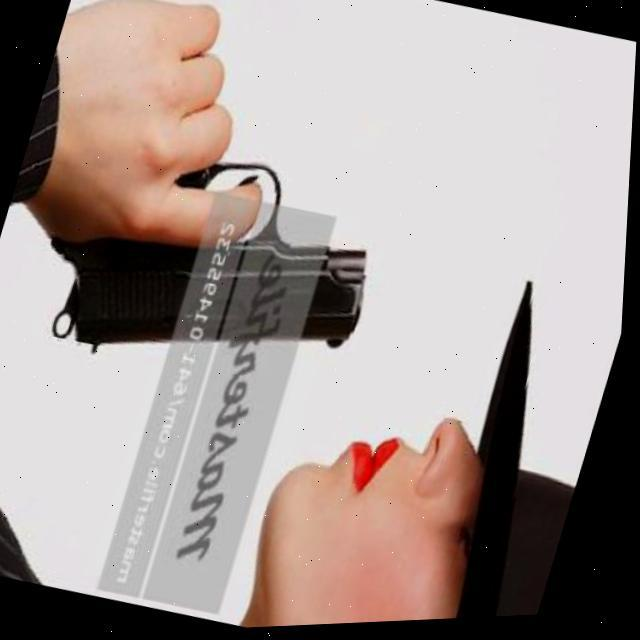gun: (16, 76, 411, 438)
